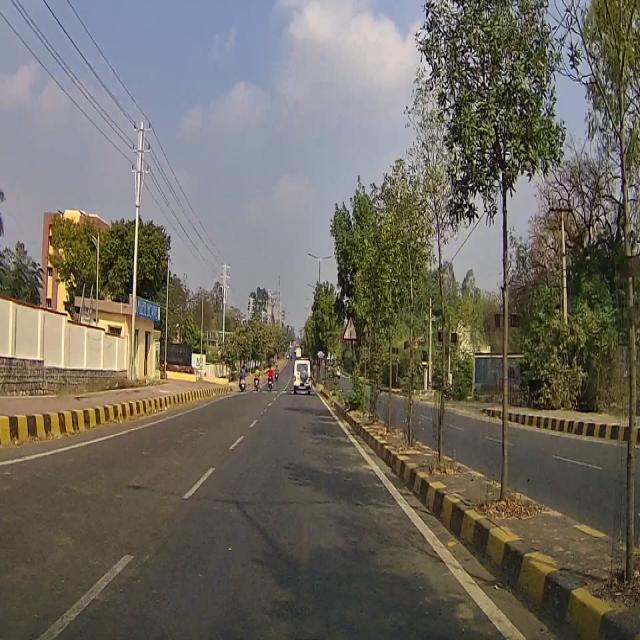gap-in-median: (342, 307, 361, 347)
